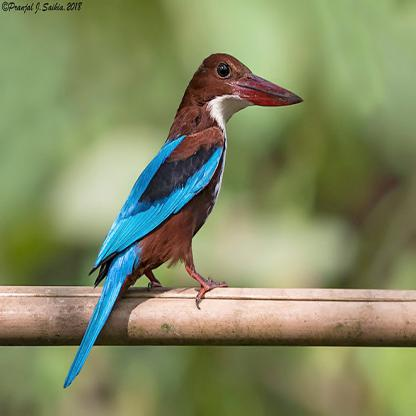Burung: (62, 52, 304, 389)
